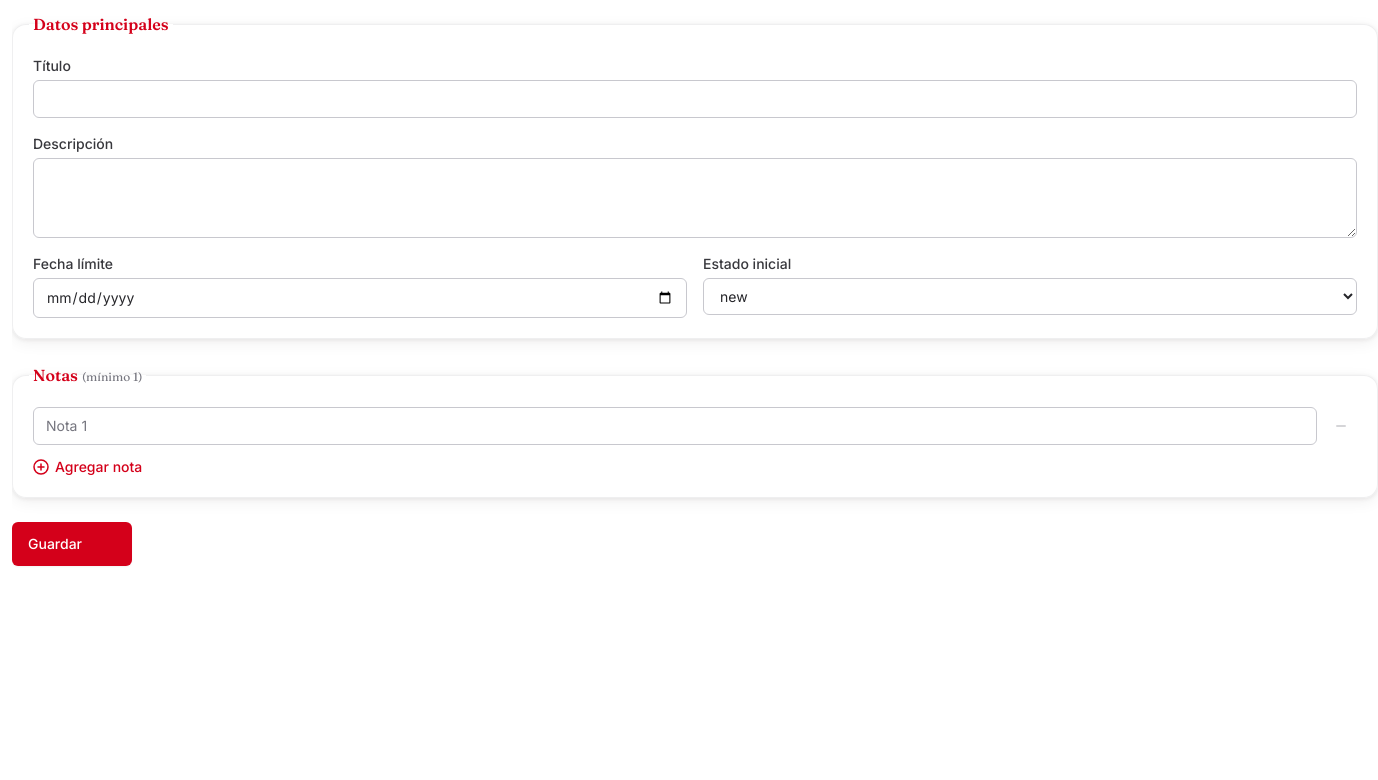
TaskForm — note management › removes a note when its remove button is clicked (with 2+ notes)
Check: the dropdown labelled "Estado inicial" is shown, box [703,278,1357,315]
Click the button "Agregar nota" at (88, 467), box [33,457,142,477]
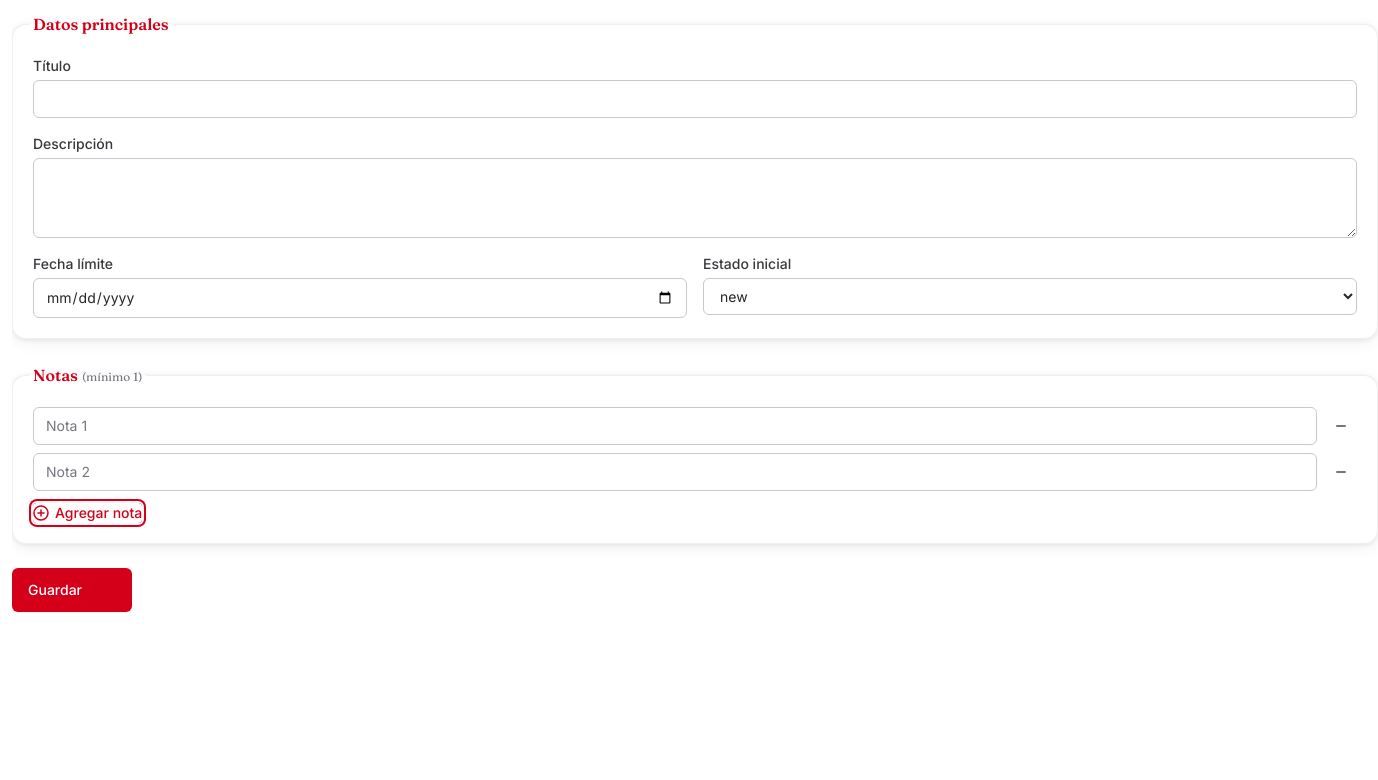
Check: the number of fields with placeholder "Nota 1" is 2, box [33,407,1317,445]; [33,453,1317,491]
Click the button named "eliminar nota" at (1341, 472), box [1325,456,1357,488]
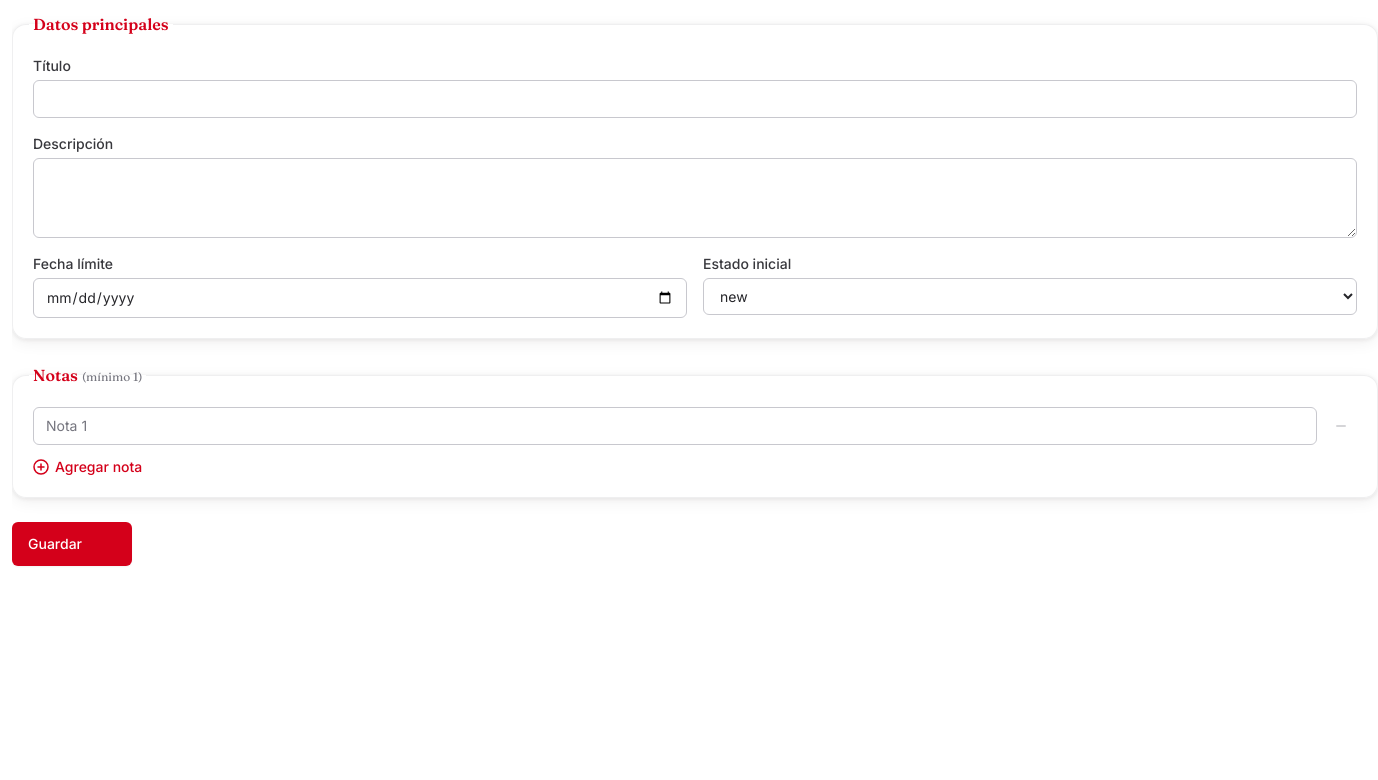
Check: the number of fields with placeholder "Nota 1" is 1, box [33,407,1317,445]
